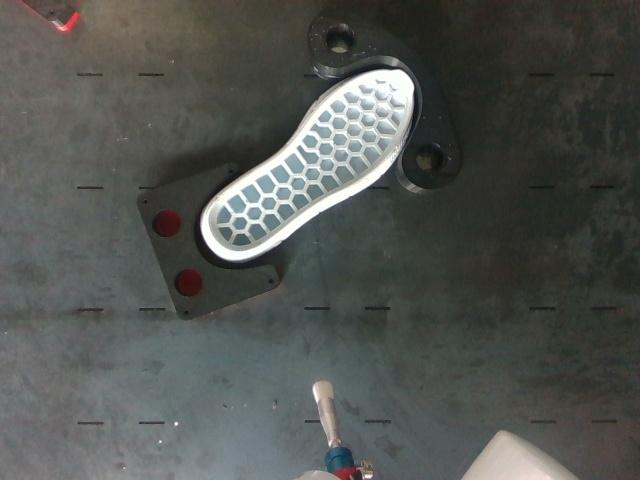shoes: (207, 70, 414, 253)
